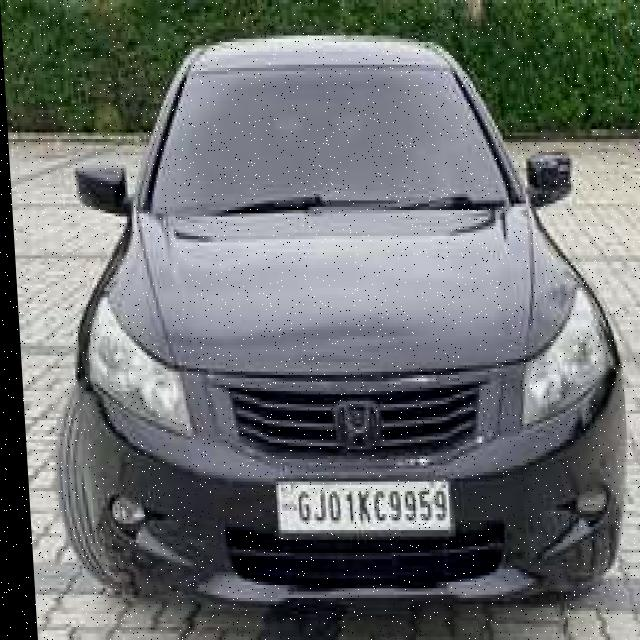plate: (265, 475, 449, 537)
